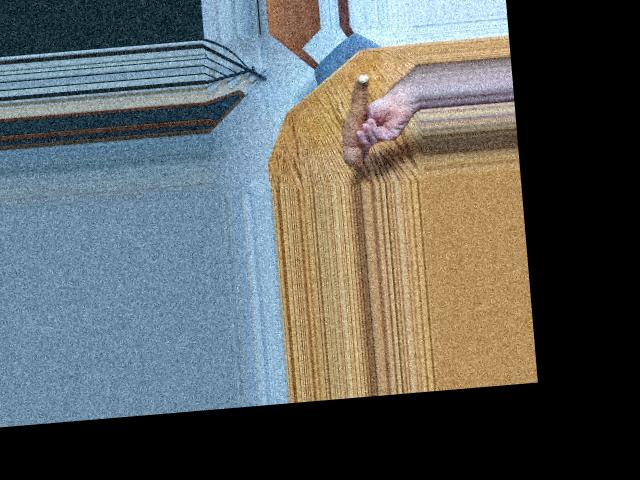sweet_potato: (332, 78, 379, 163)
